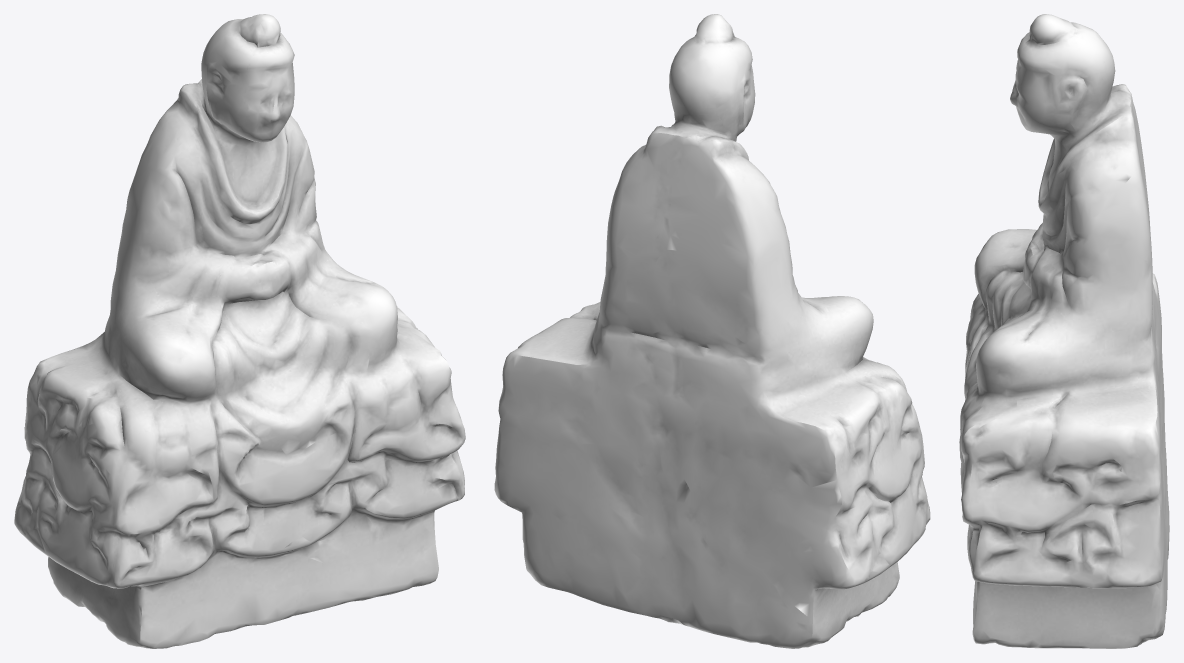
File: buddha.glb
3 views of the same model, side by side, from view 1: azimuth 30°, elevation 25°; view 2: azimuth 150°, elevation 25°; view 3: azimuth 270°, elevation 25° (orthographic). The views are drawn at different scales.
Visible parts, largest first — view 1: buddha; view 2: buddha; view 3: buddha.
Part boxes in pixels (x1,y1,x2,y2): buddha: (14,14,465,648); buddha: (494,14,930,648); buddha: (959,14,1169,648).
Bounding box in the file's own units: 0.6866 × 1 × 0.3352.
1 material, 1 textured.
